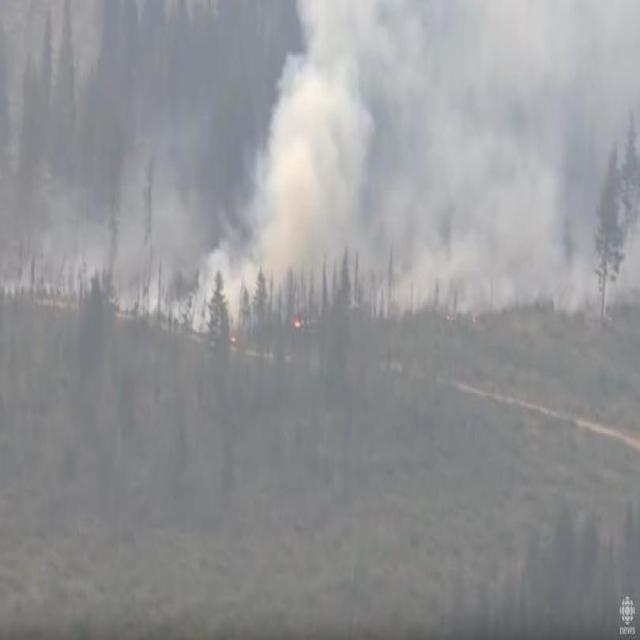Fire: (216, 324, 243, 357), (288, 305, 315, 337)
Smoke: (199, 7, 640, 349)
